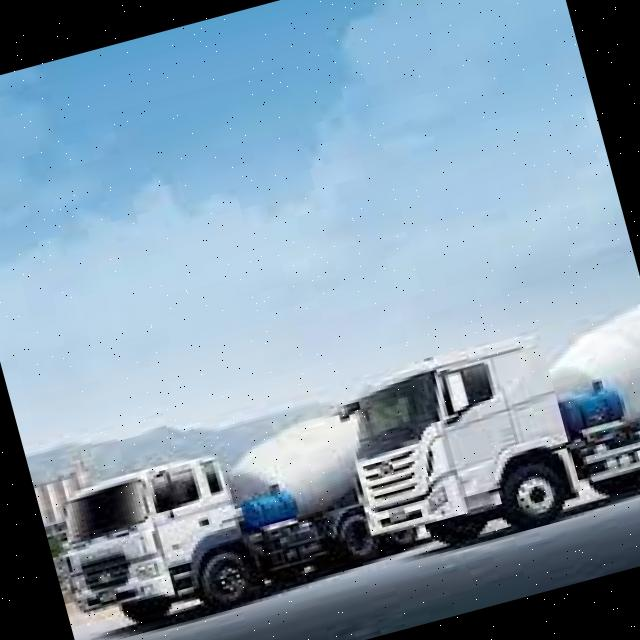Mixer Truck: (44, 393, 435, 640), (324, 299, 640, 565)
